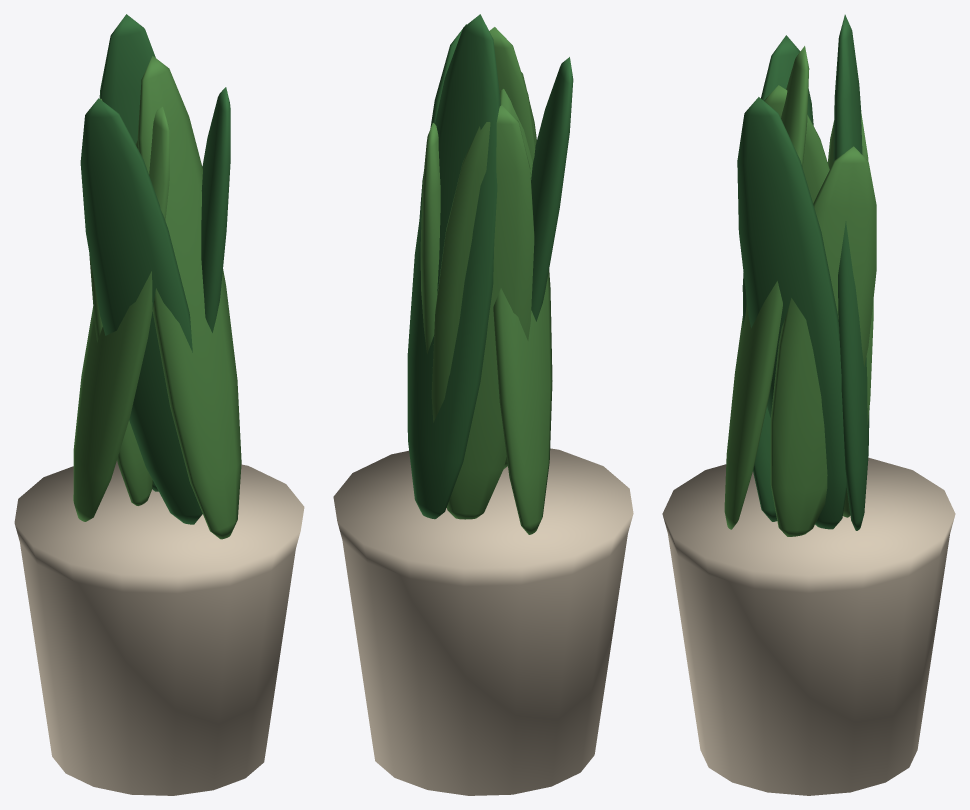
File: snake-plant.glb
3 views of the same model, side by side, from view 1: azimuth 30°, elevation 25°; view 2: azimuth 150°, elevation 25°; view 3: azimuth 270°, elevation 25° (orthographic). The views are drawn at different scales.
Visible parts, largest first — view 1: snake-plant; view 2: snake-plant; view 3: snake-plant.
Part boxes in pixels (x1,y1,x2,y2): snake-plant: [14, 14, 304, 795]; snake-plant: [333, 14, 633, 795]; snake-plant: [662, 14, 955, 795].
Bounding box in the file's own units: 0.27 × 0.7405 × 0.27.
